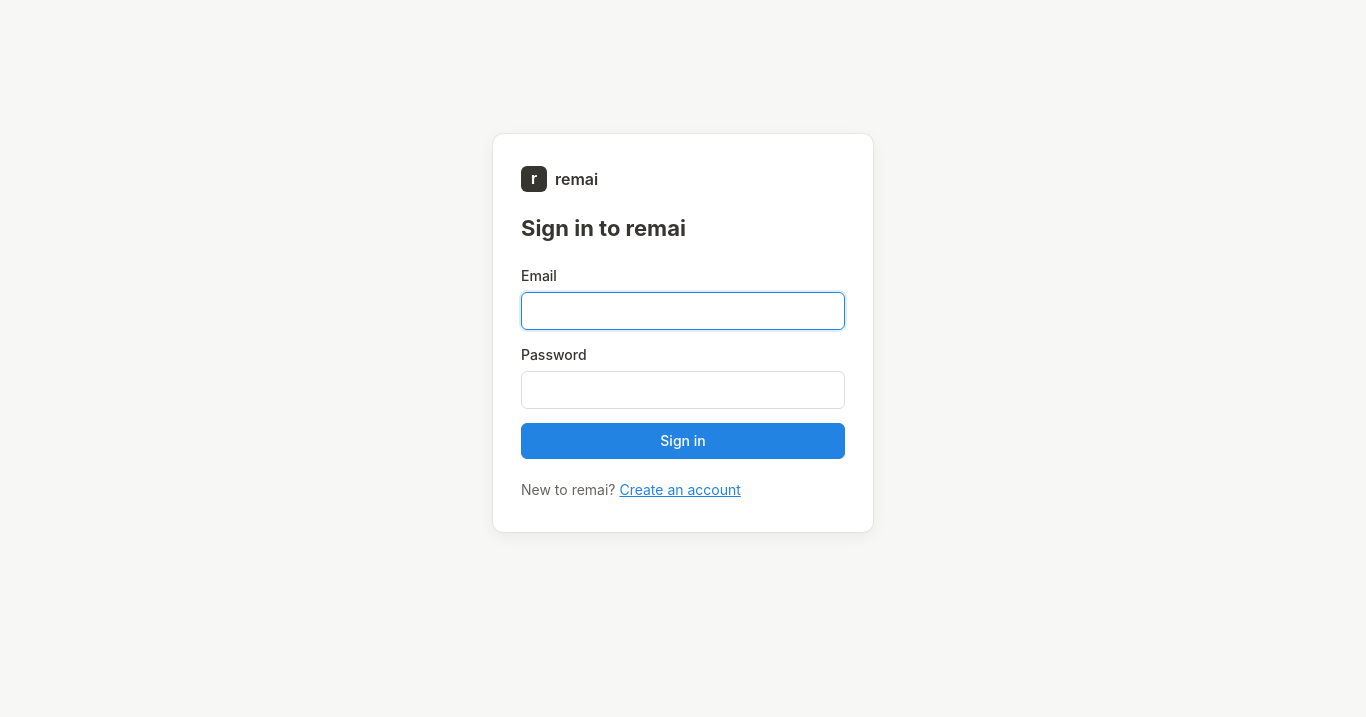
it: Addressable pages › Deep link while signed out: shows sign-in, then the requested page after signing in
This screenshot has width=1366, height=717.
expect the heading "Sign in to remai" is shown: met, box [521,215,686,241]
In the field labelled "Email": (683, 311) [521,292,845,330], type "ada@example.com"
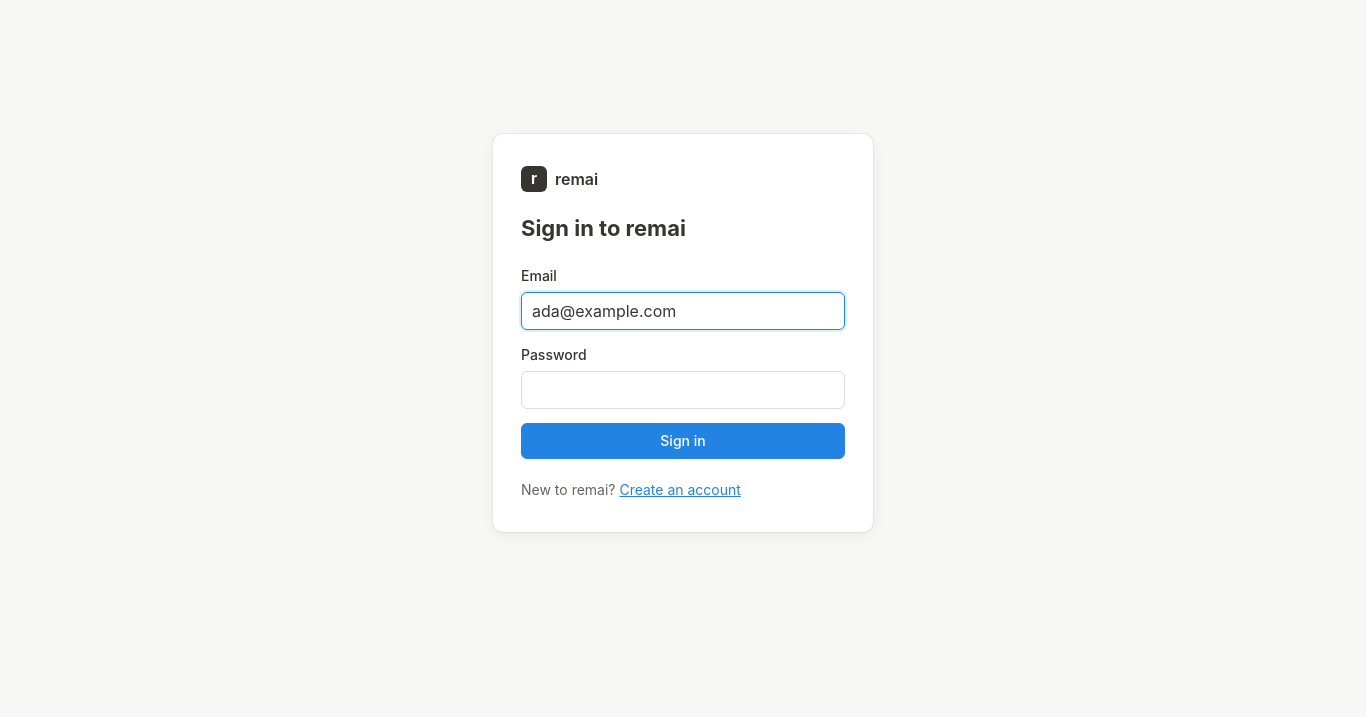
In the password field labelled "Password": (683, 390) [521,371,845,409], type "correct-horse"
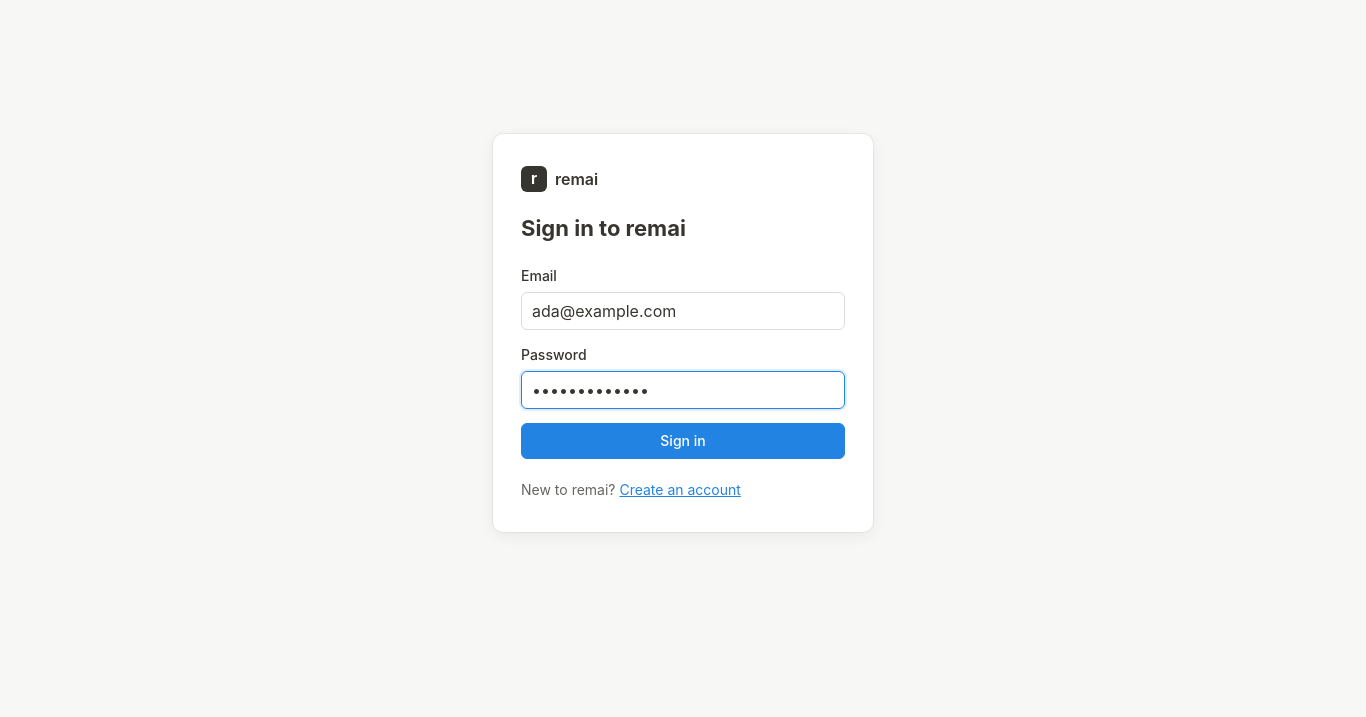
Click the button "Sign in": (683, 441) [521,423,845,459]
(page scrolled)
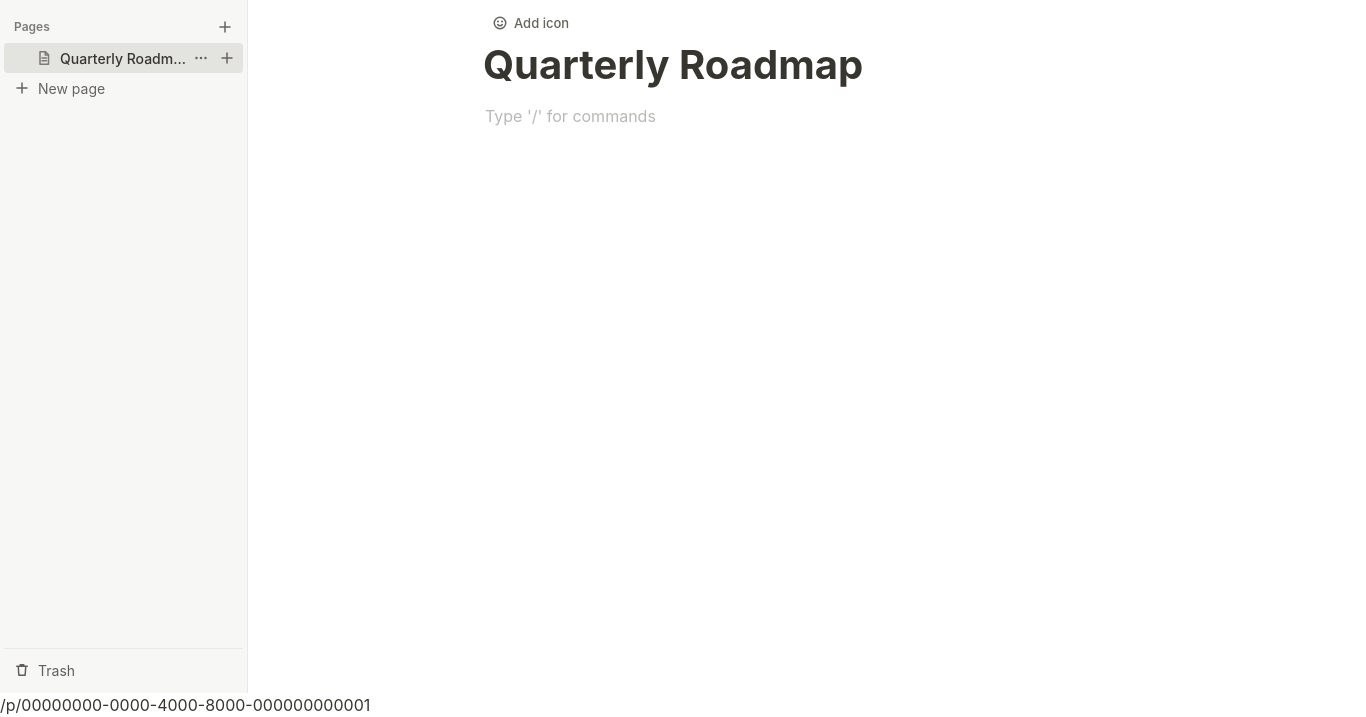
expect the text box named "Page title" holds "Quarterly Roadmap": met, box [483,41,1131,89]
